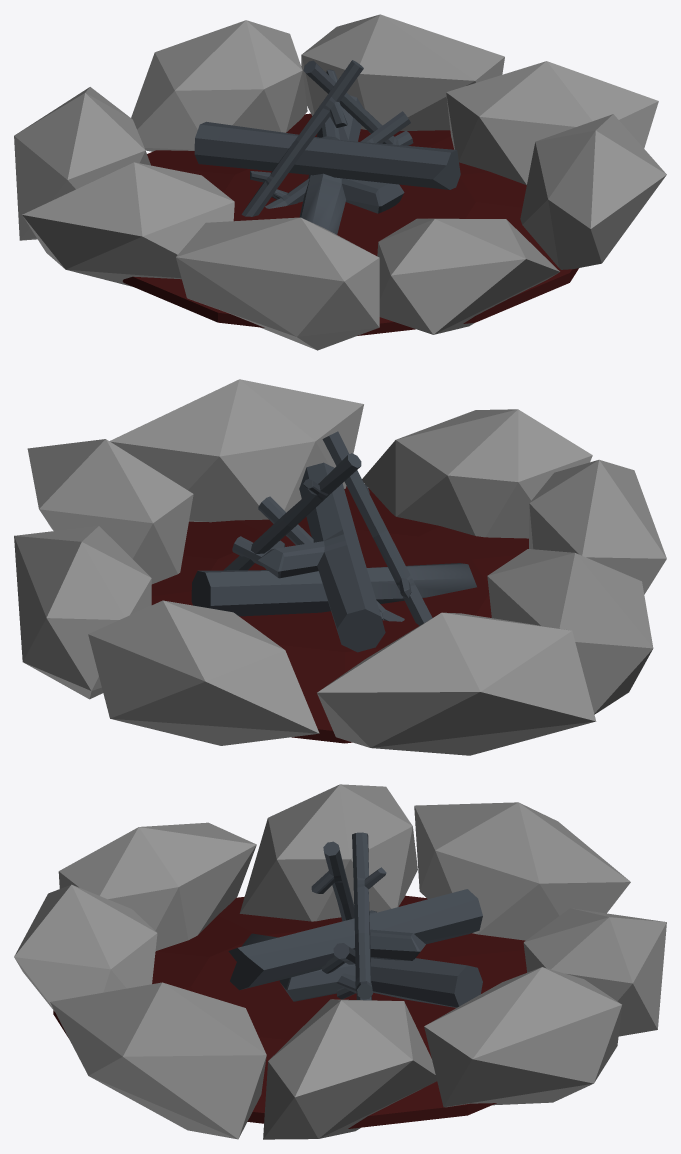
Rendered from Campfire.fbx.
The picture shows the model from 3 angles, top to bottom: view 1: azimuth 30°, elevation 25°; view 2: azimuth 150°, elevation 25°; view 3: azimuth 270°, elevation 25°; orthographic projection. The views are drawn at different scales.
Parts seen in each view (by area): view 1: CampFire; view 2: CampFire; view 3: CampFire.
Part boxes in pixels (x1,y1,x2,y2): CampFire: [14, 14, 666, 350]; CampFire: [14, 379, 666, 755]; CampFire: [14, 784, 666, 1139].
Bounding box in the file's own units: 234 × 70.87 × 208.
